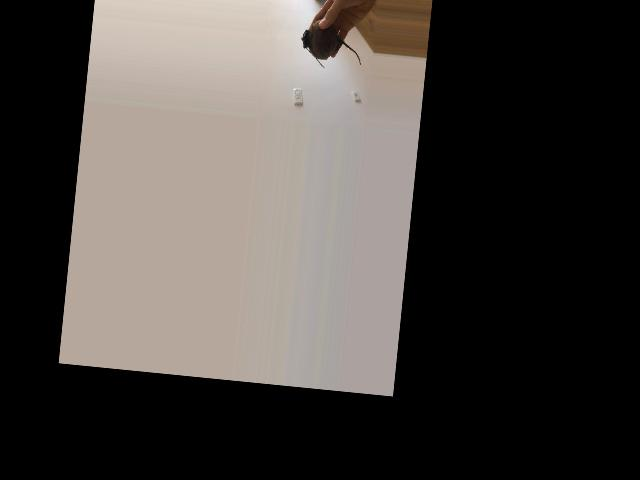beet: (298, 17, 364, 72)
